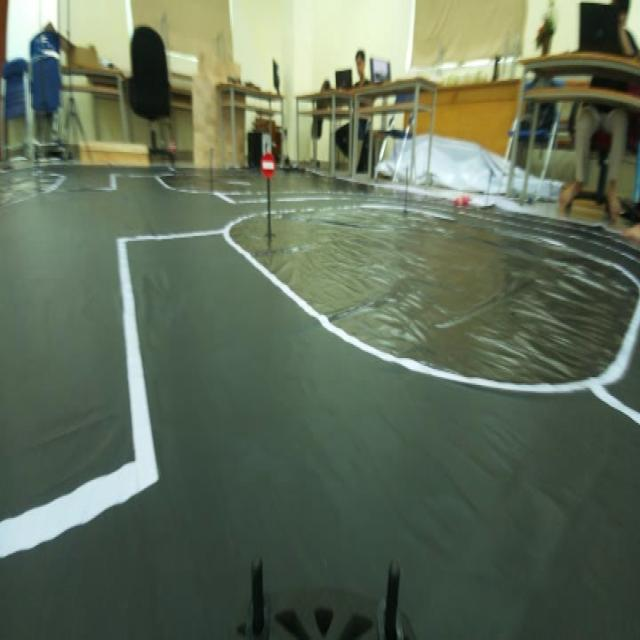no_entry: (257, 148, 279, 185)
